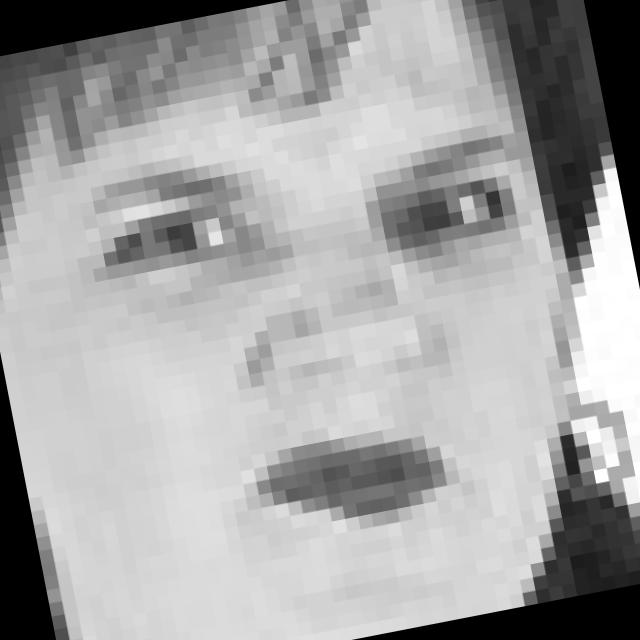disgust: (76, 98, 593, 604)
